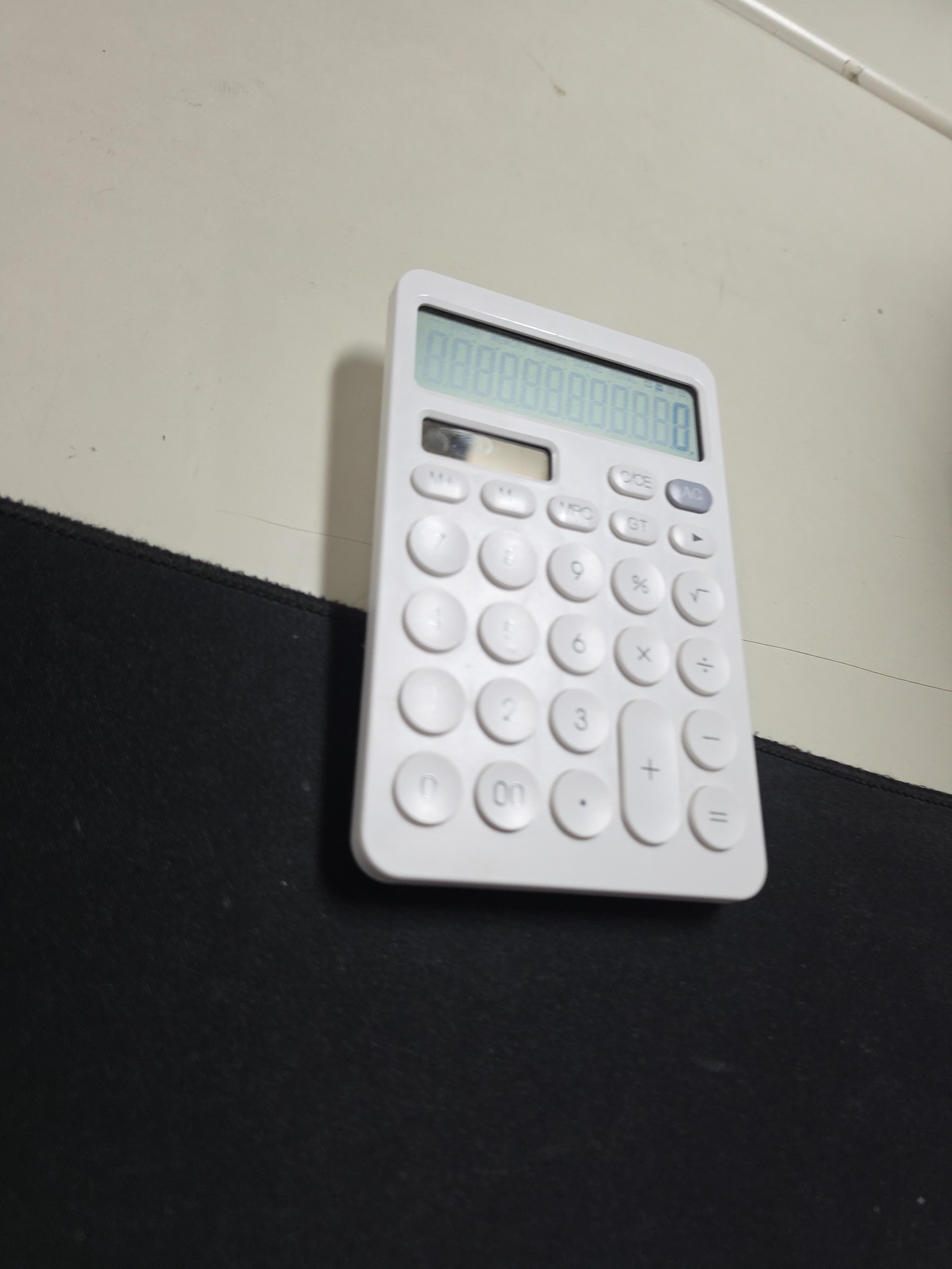calculator: (351, 269, 767, 904)
